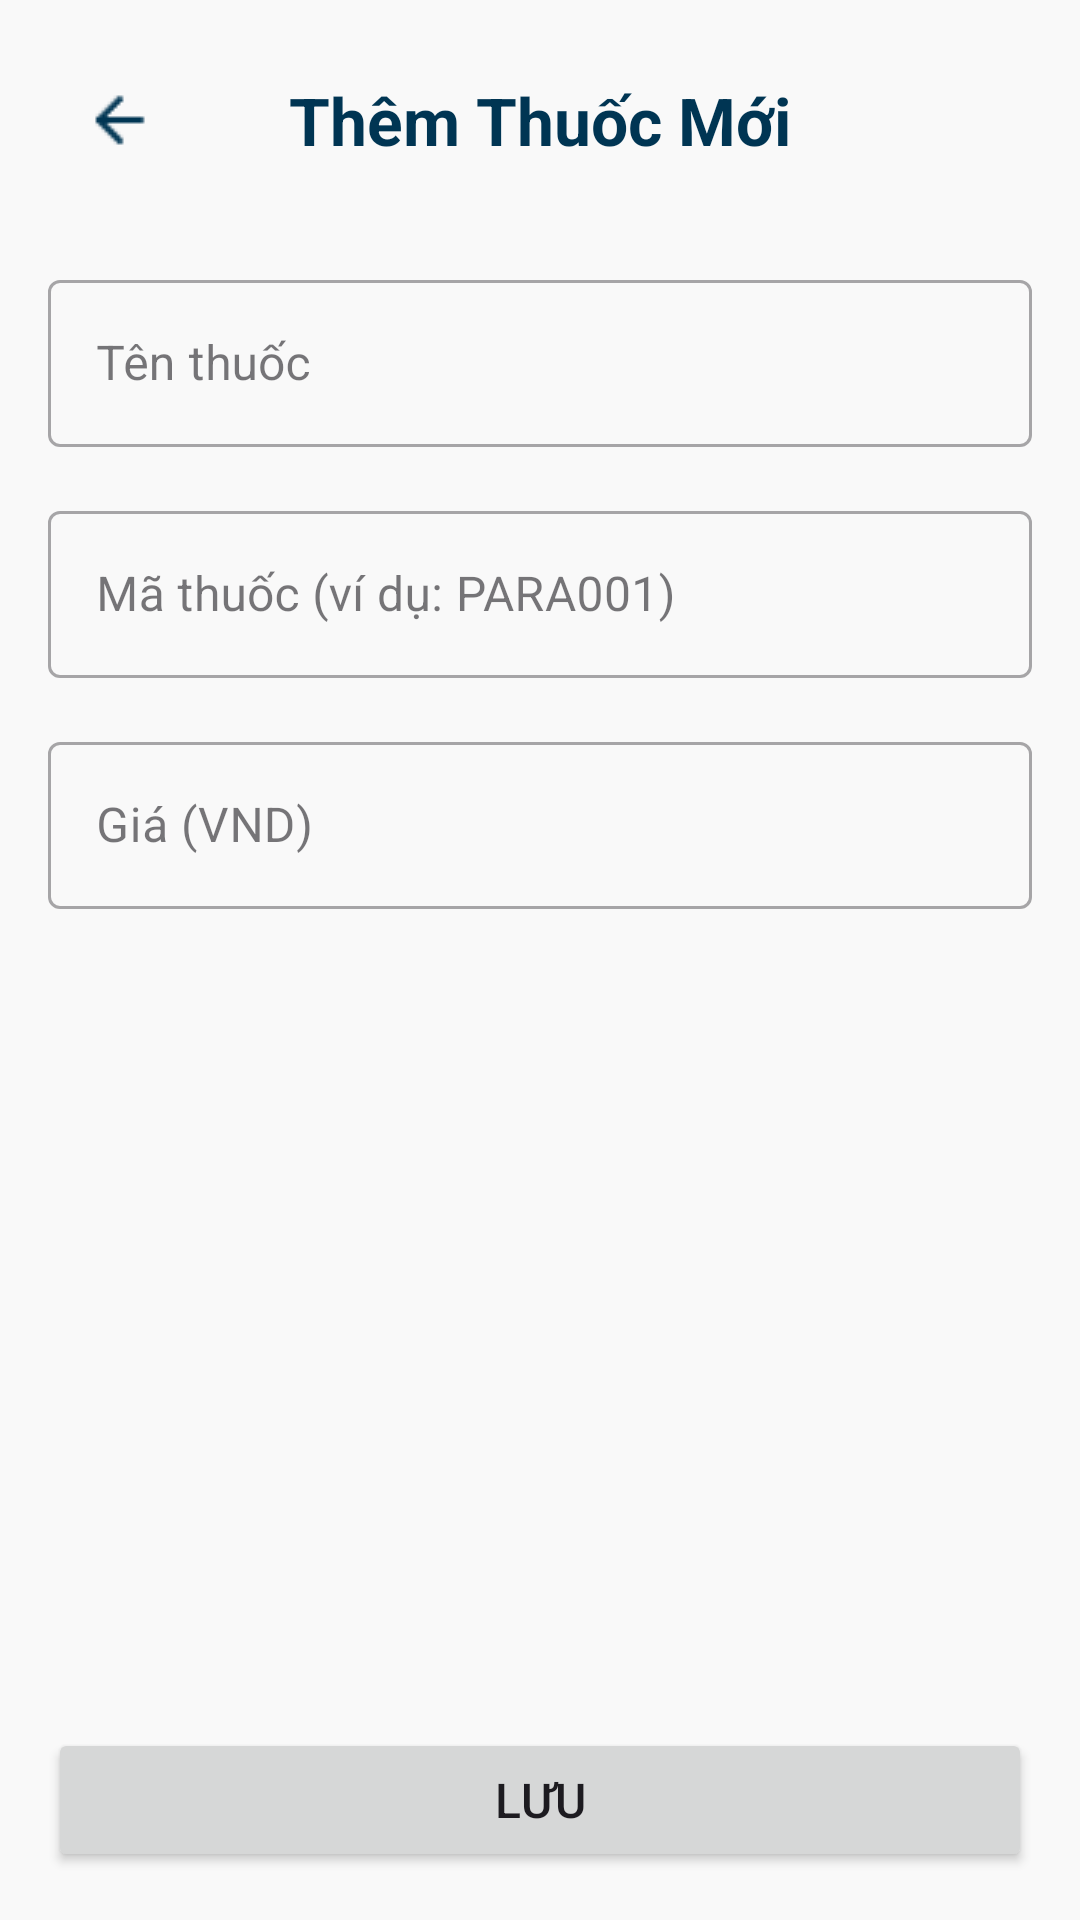

Where to tap for icons on this 1080px×1920px app screen, as point (x, y):
Quay lại: point (120, 120)
